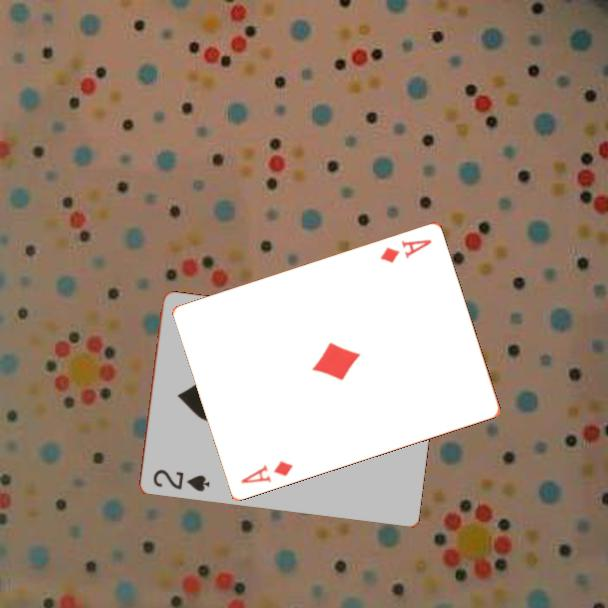d01: (376, 235, 435, 266), (237, 457, 296, 486)
s02: (149, 466, 212, 495)
